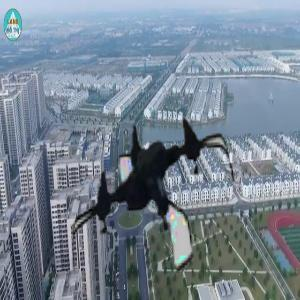drone: (60, 112, 247, 299)
